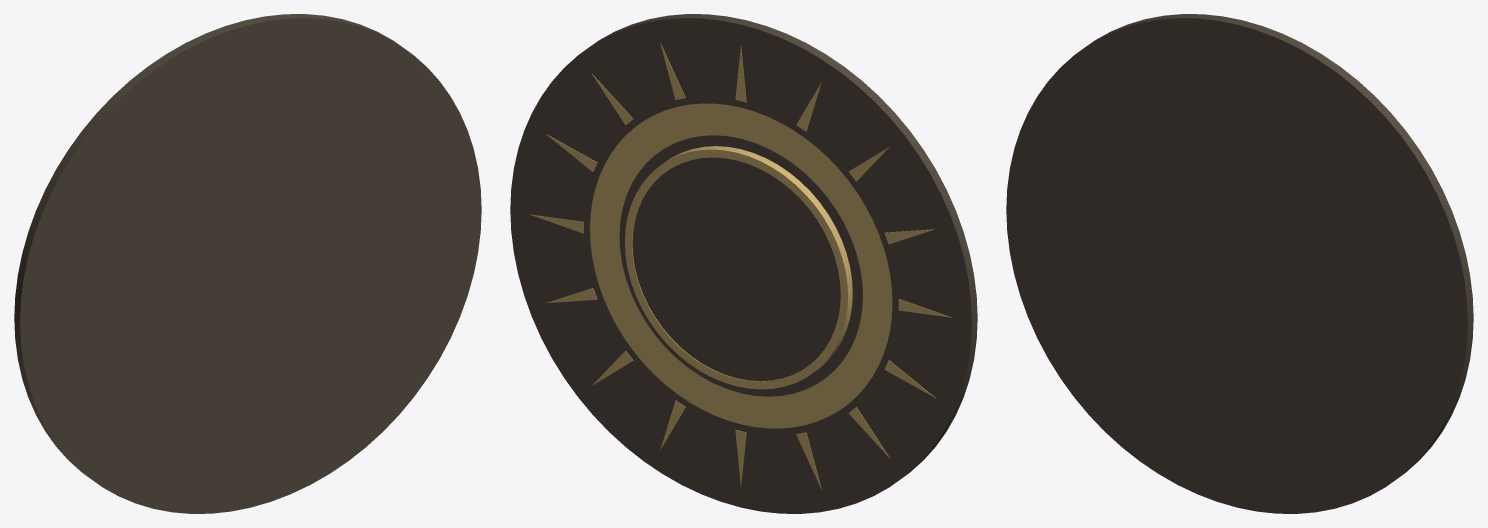
The model's file is shadow-gate-seal-v01.glb.
The picture shows the model from 3 angles, left to right: view 1: azimuth 30°, elevation 25°; view 2: azimuth 150°, elevation 25°; view 3: azimuth 330°, elevation 25°; orthographic projection.
Parts seen in each view (by area): view 1: Shadow bronze dark 0; view 2: Shadow bronze dark 0, Shadow gold 1; view 3: Shadow bronze dark 0.
Part boxes in pixels (x1,y1,x2,y2): Shadow bronze dark 0: [14, 14, 481, 513]; Shadow bronze dark 0: [510, 14, 977, 513]; Shadow gold 1: [530, 43, 951, 489]; Shadow bronze dark 0: [1006, 14, 1473, 513].
Bounding box in the file's own units: 3.72 × 3.72 × 0.145.
